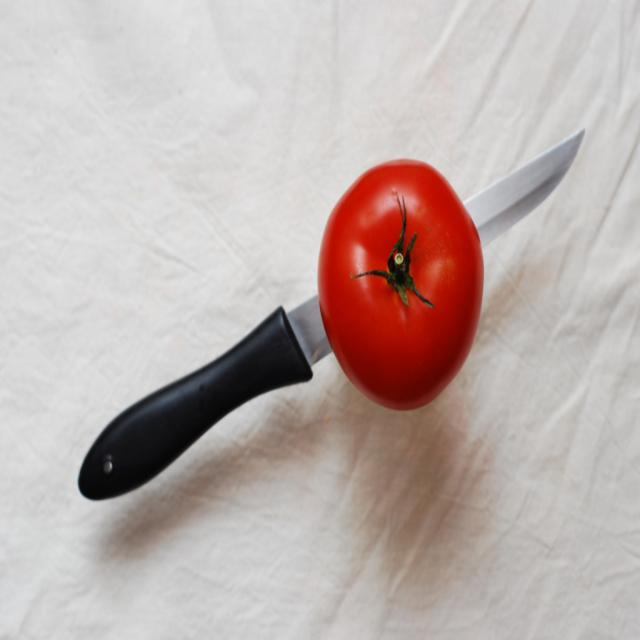Knife: (79, 296, 331, 499), (465, 130, 583, 243)
